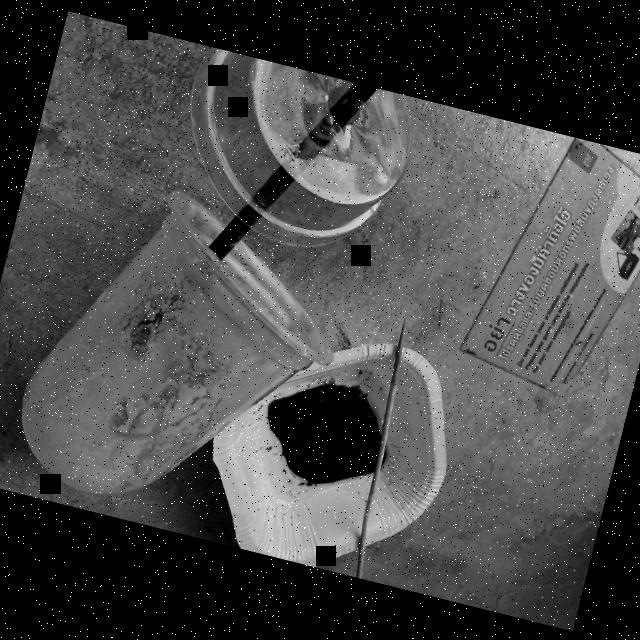cardboard_bowl: (185, 304, 476, 592)
plastic_cup: (0, 159, 367, 547)
plastic_cup_lid: (164, 45, 426, 274)
stick: (332, 316, 432, 580)
straw: (214, 58, 378, 281)
